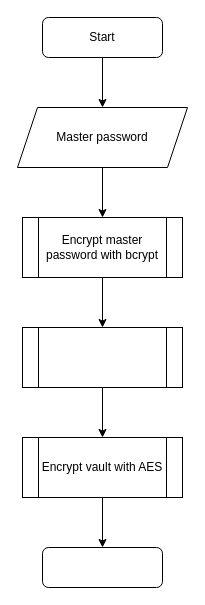
The diagram is 205 pixels wide and 605 high, and some of its shapes have lost their labels. Here are the shapes that lost their labels. From the top down, the centre of each, then its label:
point (102, 357): Use hashed master password as key for AES
point (102, 567): End
